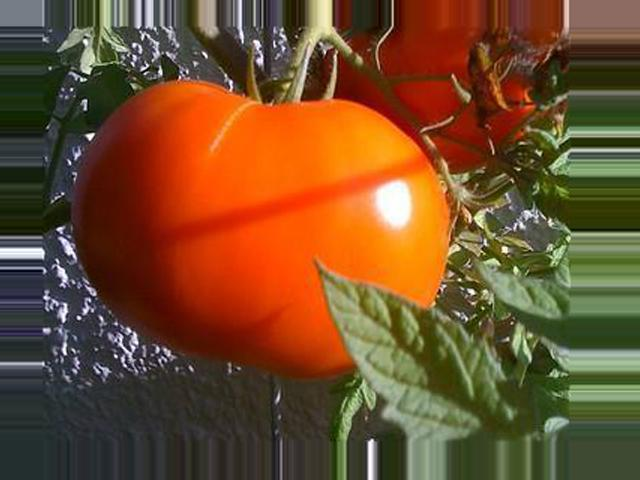tomato: (72, 79, 450, 377)
